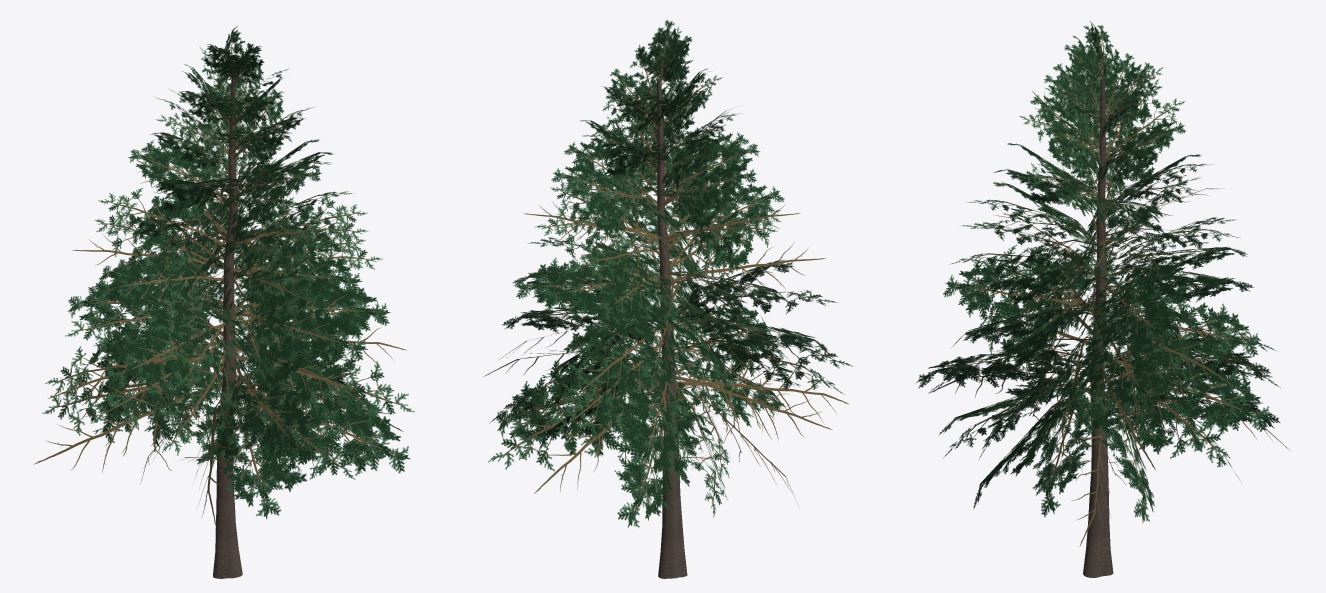
3 views of the same model, side by side, from view 1: azimuth 30°, elevation 25°; view 2: azimuth 150°, elevation 25°; view 3: azimuth 270°, elevation 25° (orthographic).
Visible parts, largest first — view 1: Pine_Tree_Lowpoly__2; view 2: Pine_Tree_Lowpoly__2; view 3: Pine_Tree_Lowpoly__2.
Boxes of the visible parts, x1,y1,x2,y2 form: Pine_Tree_Lowpoly__2: (34, 26, 414, 578); Pine_Tree_Lowpoly__2: (483, 20, 853, 578); Pine_Tree_Lowpoly__2: (916, 21, 1289, 577).
Bounding box in the file's own units: 0.1864 × 0.2805 × 0.1898.
Materials: 4 (4 with a texture image).
